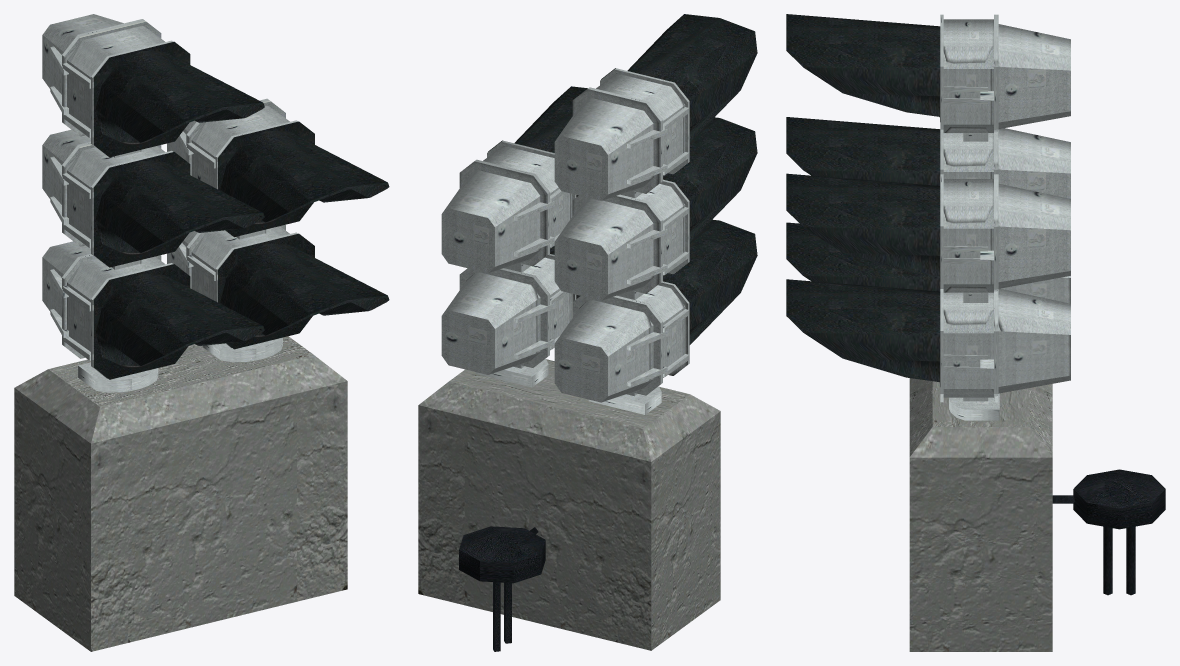
Rendered from exit_small_two_yellows.obj.
3 renders of one model, left to right at view 1: azimuth 30°, elevation 25°; view 2: azimuth 150°, elevation 25°; view 3: azimuth 270°, elevation 25°, orthographic. The views are drawn at different scales.
Visible parts, largest first — view 1: Body_0_Signal; view 2: Body_0_Signal; view 3: Body_0_Signal.
Boxes of the visible parts, left/top/right/bottom form: Body_0_Signal: left=14, top=14, right=389, bottom=651; Body_0_Signal: left=418, top=14, right=757, bottom=651; Body_0_Signal: left=786, top=14, right=1165, bottom=651.
Bounding box in the file's own units: 0.6 × 1.29 × 0.8222.
6 materials, 6 textured.
